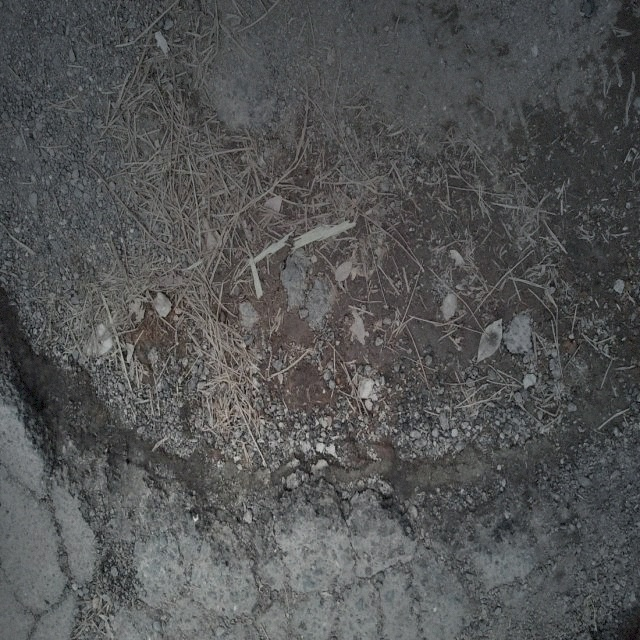pothole: (10, 239, 539, 562)
